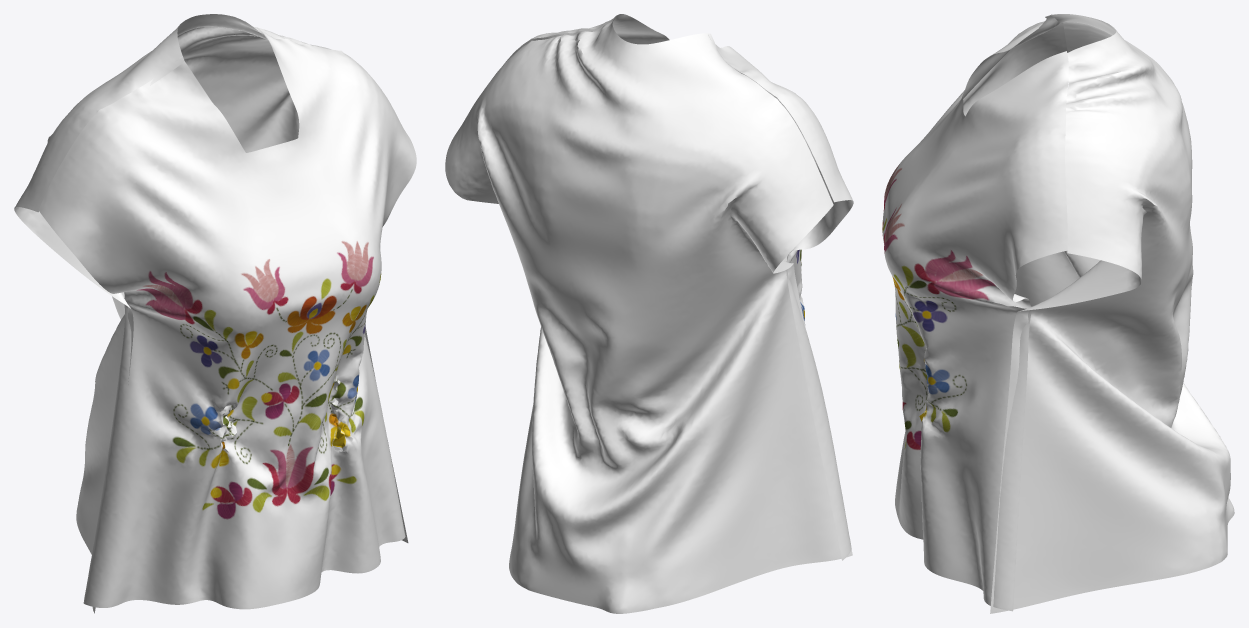
The model's file is blusa_flores_simple.glb.
The picture shows the model from 3 angles, left to right: view 1: azimuth 30°, elevation 25°; view 2: azimuth 150°, elevation 25°; view 3: azimuth 270°, elevation 25°; orthographic projection. The views are drawn at different scales.
Parts seen in each view (by area): view 1: Object_3; view 2: Object_3; view 3: Object_3.
Part boxes in pixels (x1,y1,x2,y2): Object_3: [14, 14, 416, 613]; Object_3: [445, 14, 853, 613]; Object_3: [882, 14, 1234, 613].
Bounding box in the file's own units: 0.3063 × 0.4201 × 0.262.
1 material, 1 textured.
